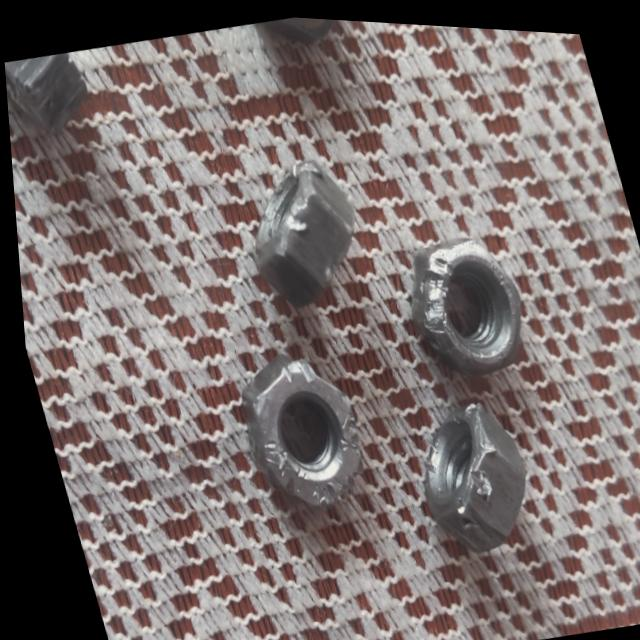infected nut: (235, 352, 353, 502), (415, 395, 518, 547), (404, 231, 516, 369), (248, 157, 350, 302), (4, 50, 85, 132)
